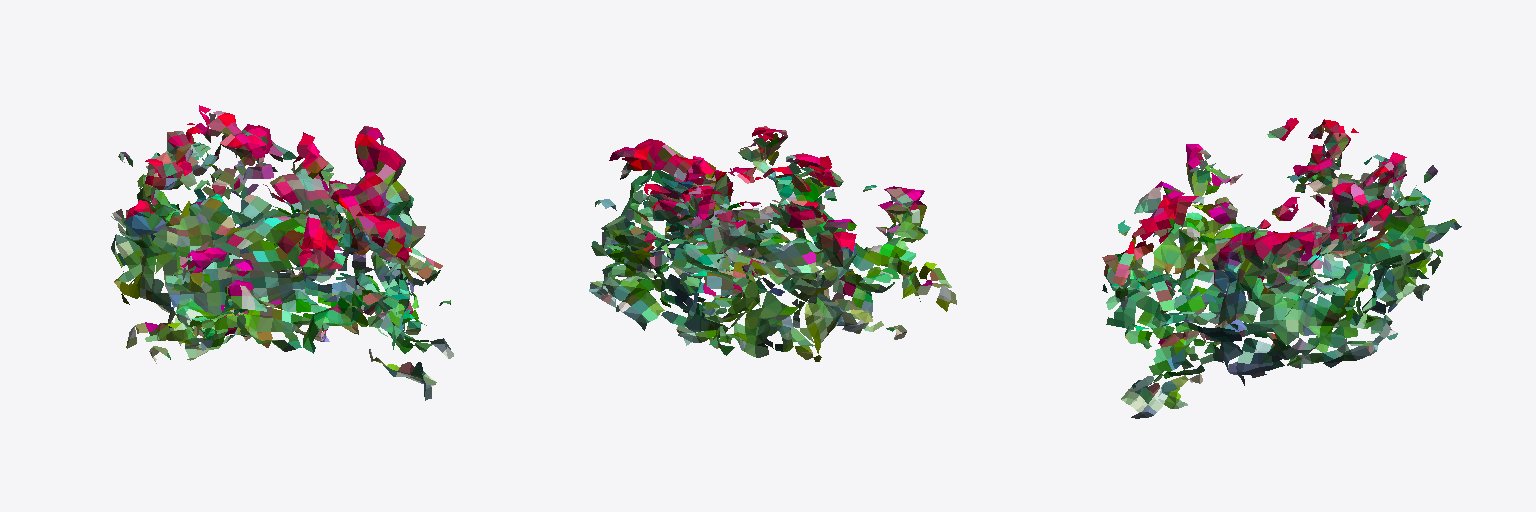
3 renders of one model, left to right at view 1: azimuth 30°, elevation 25°; view 2: azimuth 150°, elevation 25°; view 3: azimuth 270°, elevation 25°, orthographic.
Size of the model in its own units: 2.55 by 1.78 by 2.52.
Materials: 1 (1 with a texture image).